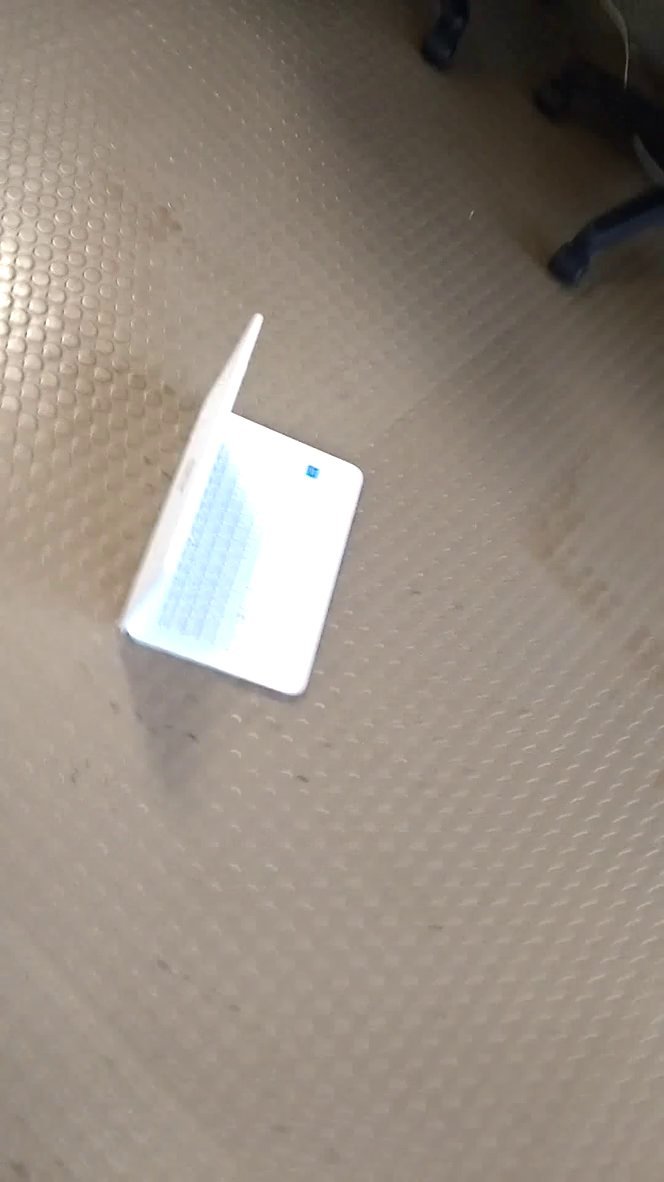laptop: (113, 305, 374, 711)
